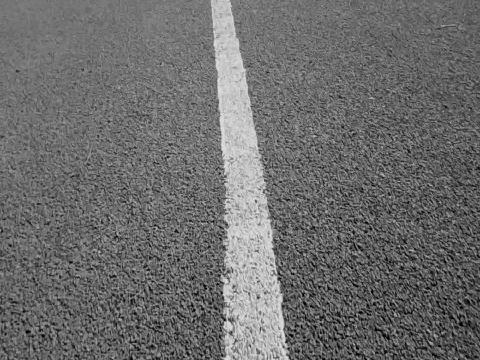Lines: (209, 0, 292, 360)
